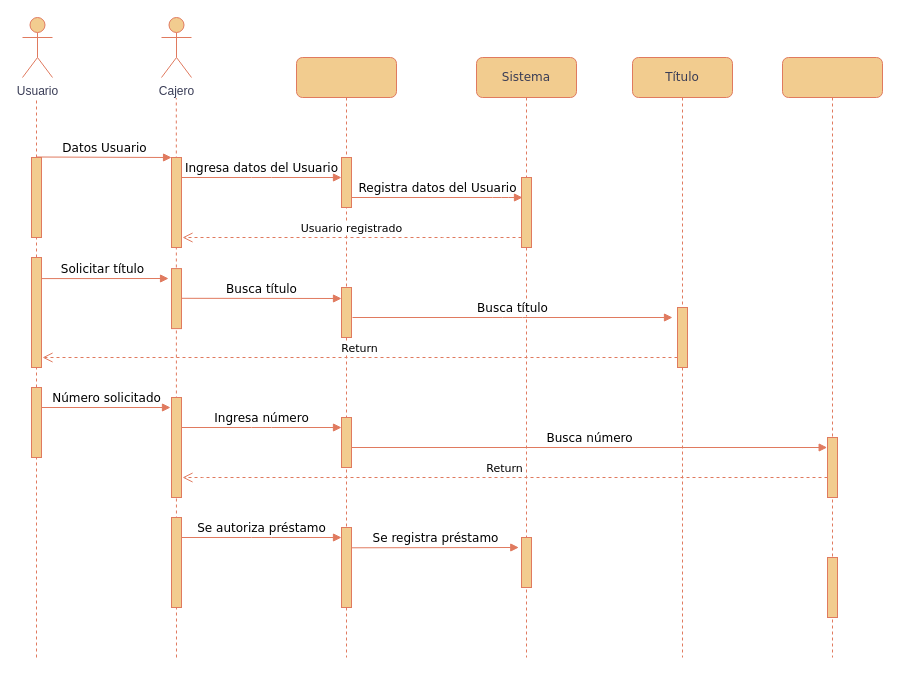
Some shapes in this 900 by 676 pixel diagram are drawn without their labels. The shapes that lost their labels are listed below. From the top down, each one's box as (x1, y1, x2, y2) in pixels, then its label:
(296, 56, 396, 658): Ventana_de_préstamos
(782, 56, 882, 658): Disponibilidad
